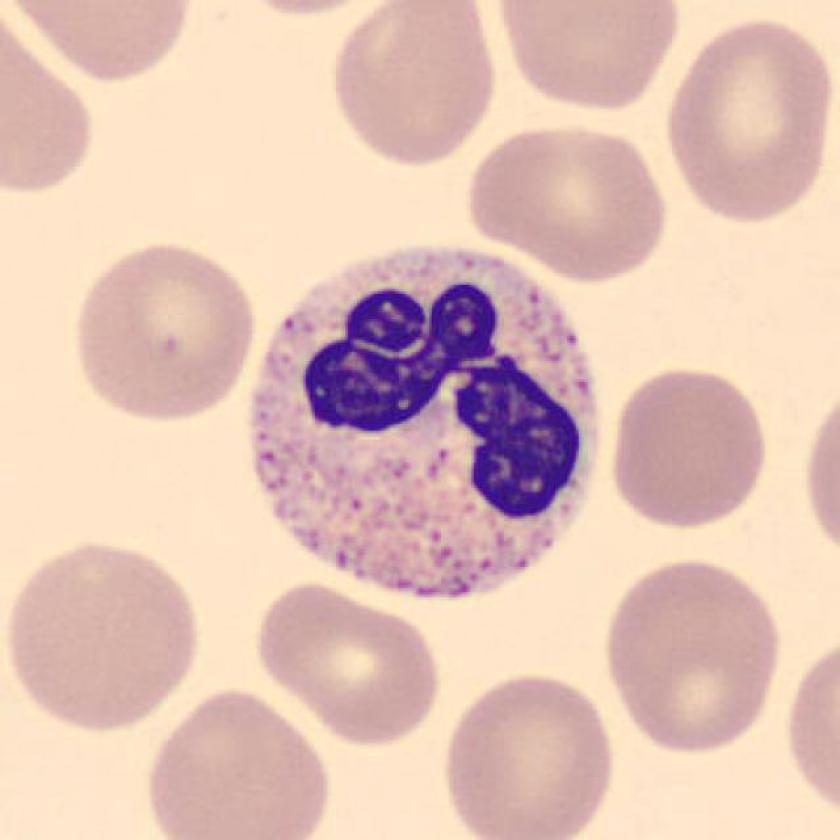neutrophil: (252, 249, 597, 593)
